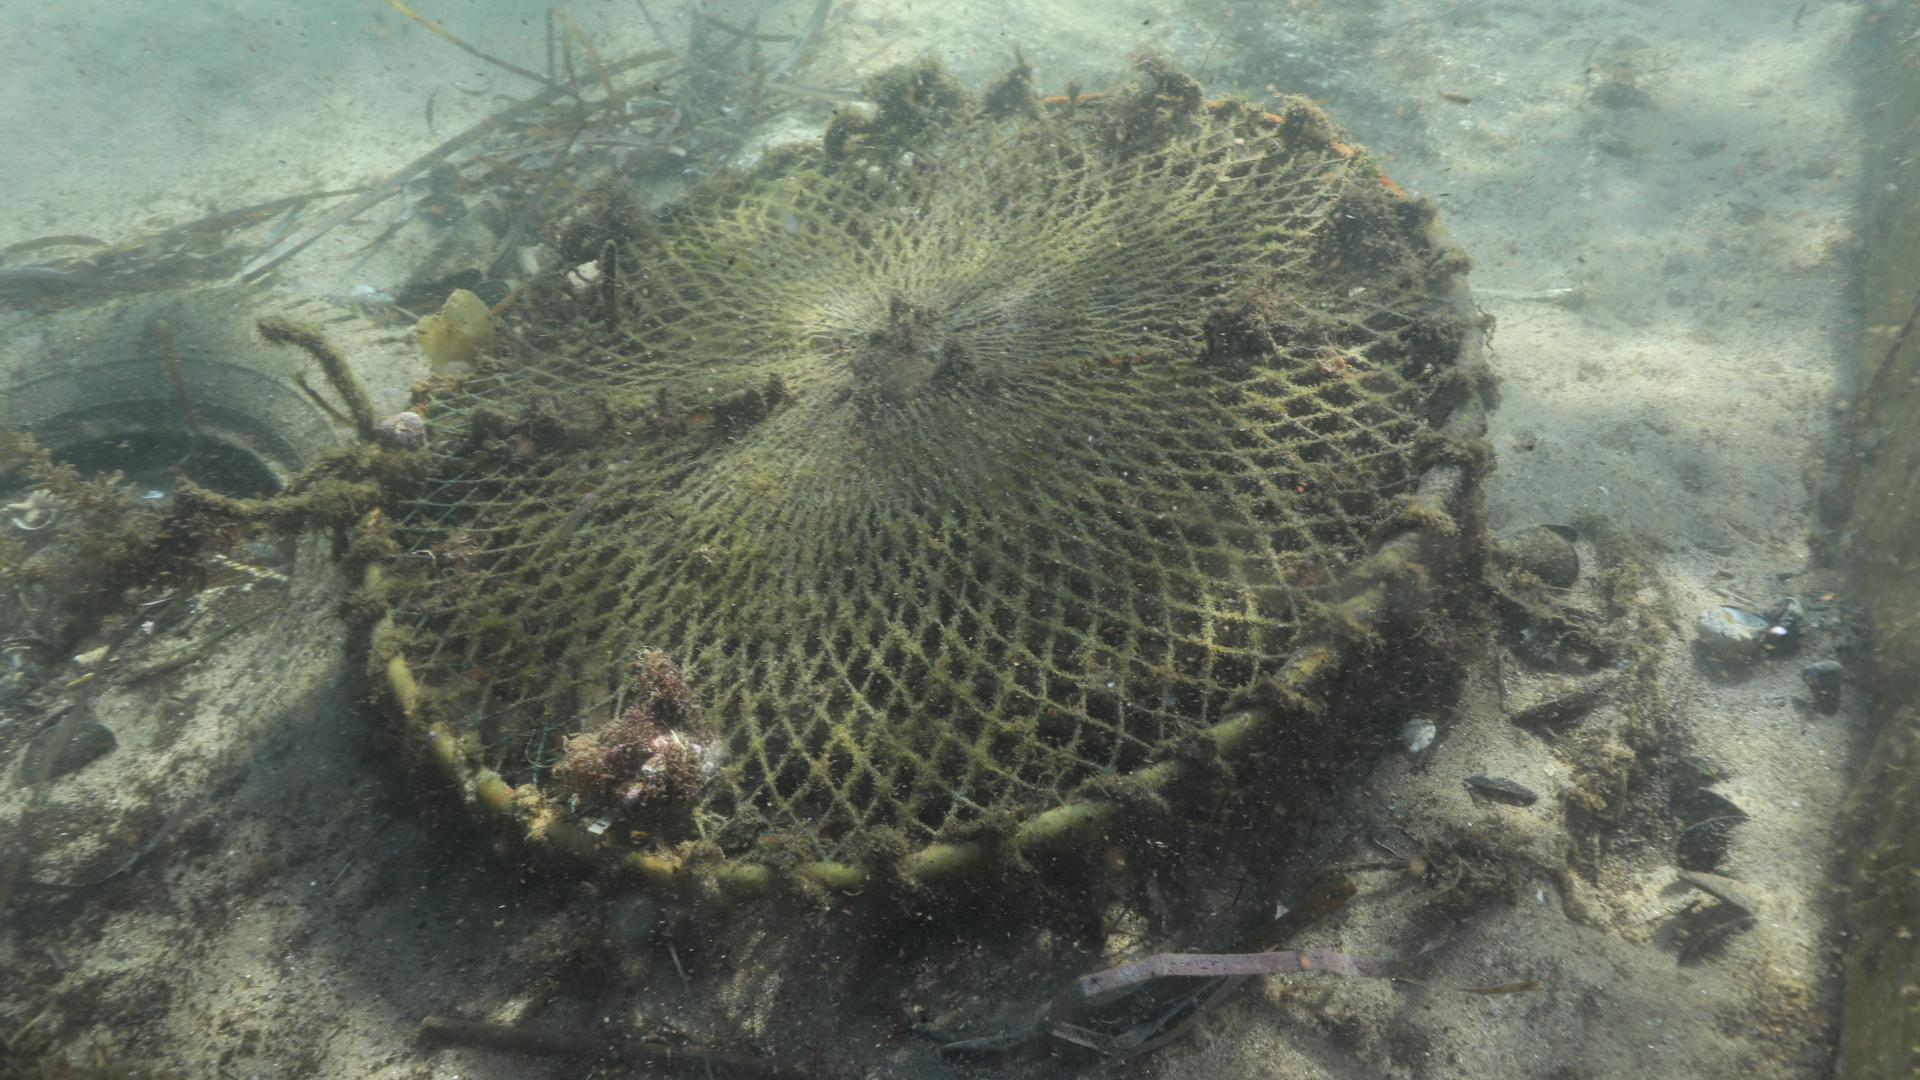circular fish trap: (347, 82, 1498, 978)
